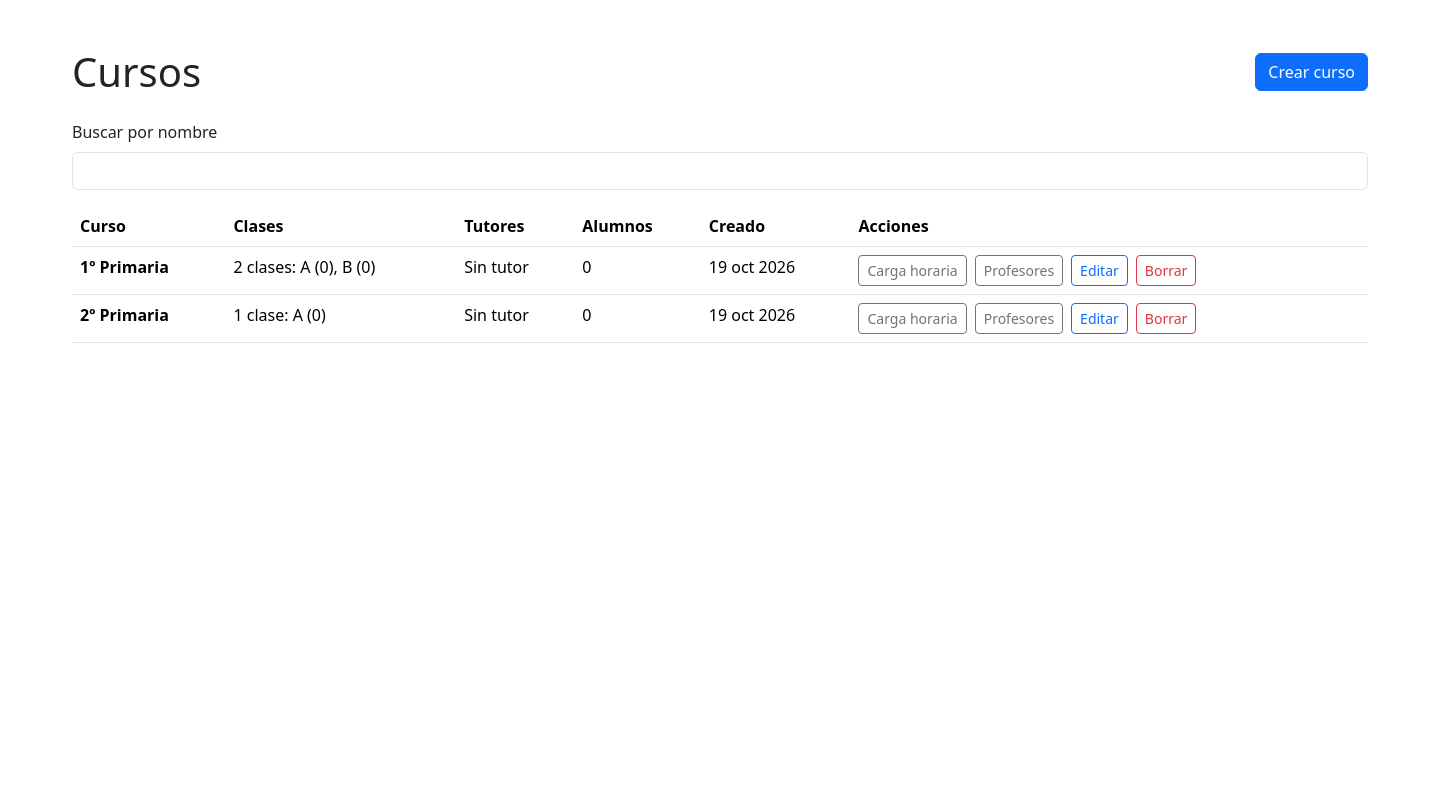
Test: CoursesPage › on a wide screen › deleting a course › says how many students are left without a class only when the deleted course had some
Click the button with aria-label "Borrar 1º Primaria". click: [1166, 270]
box: [1136,255,1196,286]
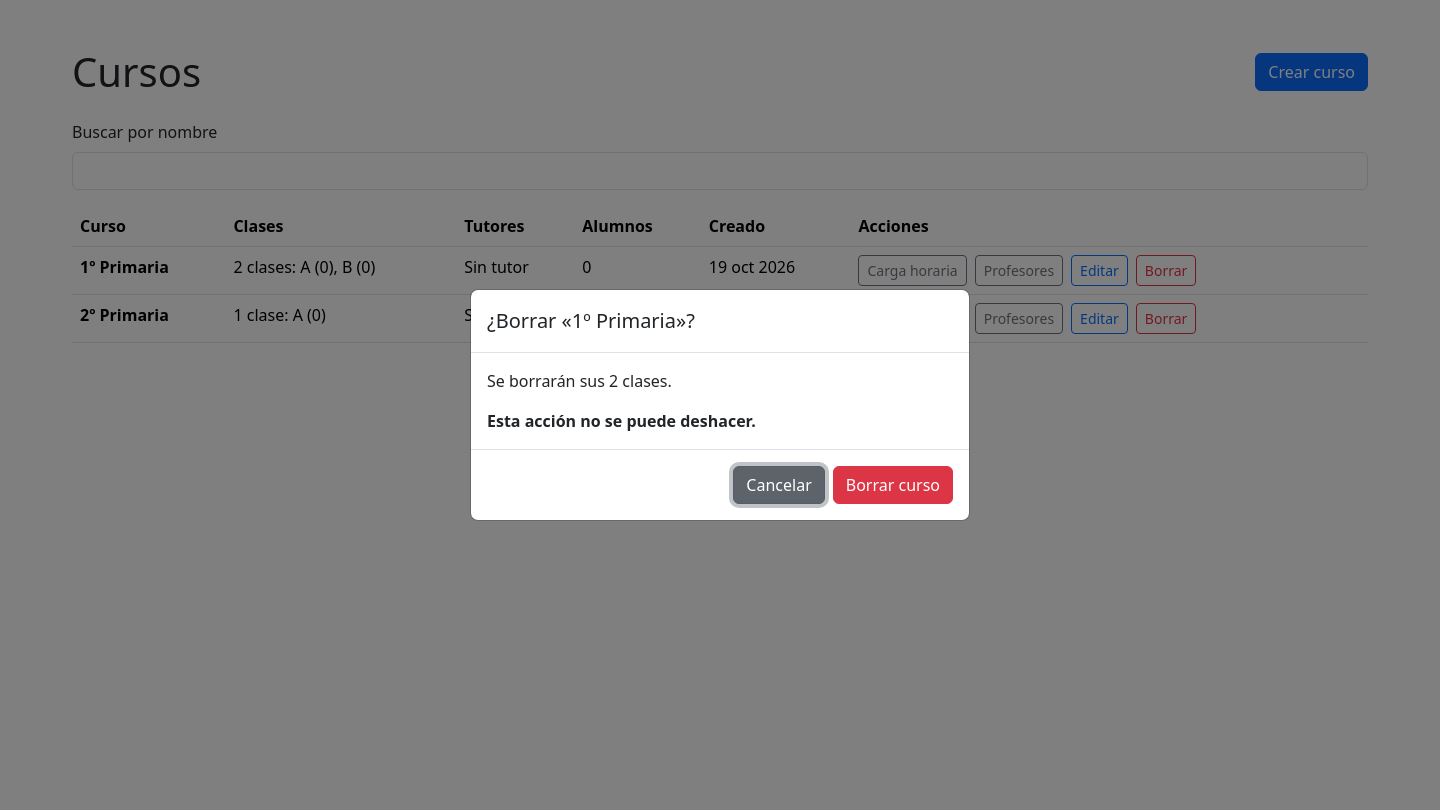
Click the button "Borrar curso". click: [893, 485]
box: [833,466,953,504]
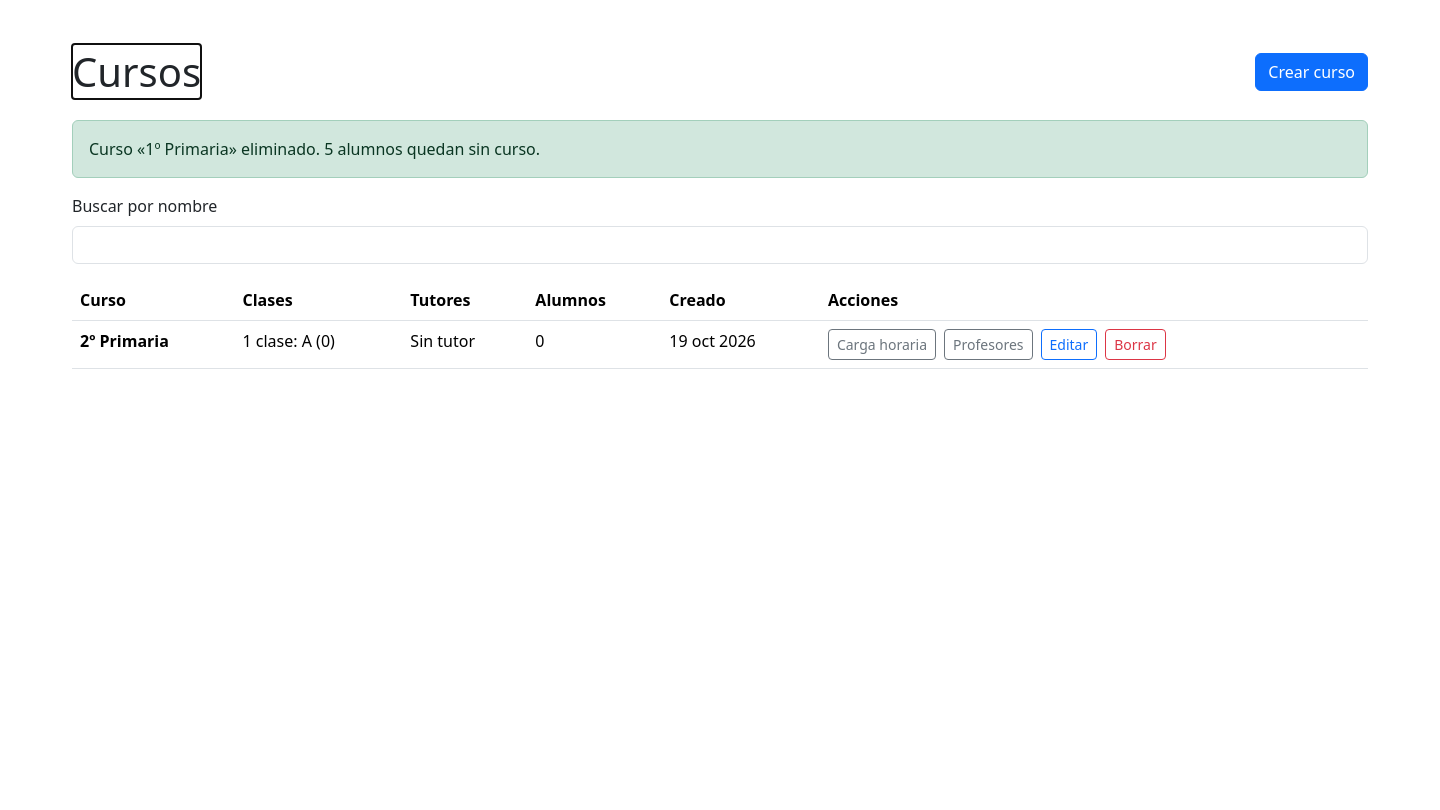
Expected: the text "Curso «1º Primaria» eliminado. 5 alumnos quedan sin curso." is shown, [72,120,1368,178]
